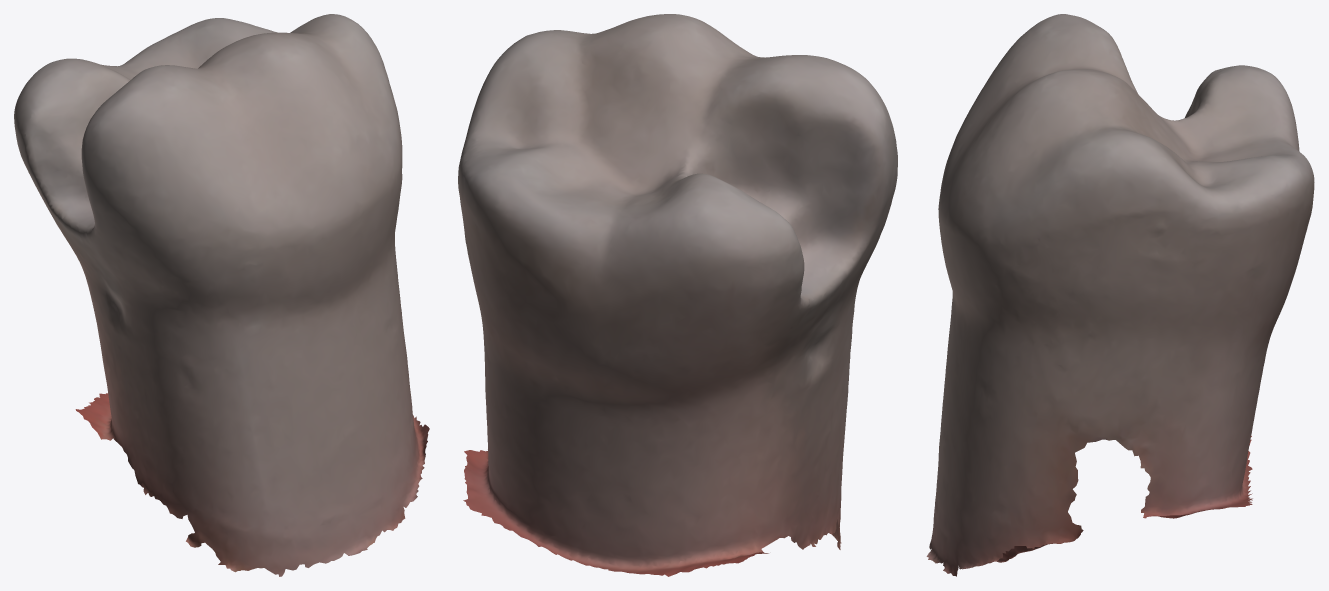
File: ModeloAPP.fbx
The picture shows the model from 3 angles, left to right: view 1: azimuth 30°, elevation 25°; view 2: azimuth 150°, elevation 25°; view 3: azimuth 270°, elevation 25°; orthographic projection. The views are drawn at different scales.
Visible parts, largest first — view 1: PIEZA 36 SOLA; view 2: PIEZA 36 SOLA; view 3: PIEZA 36 SOLA.
Boxes of the visible parts, x1,y1,x2,y2 form: PIEZA 36 SOLA: (14,14,429,576); PIEZA 36 SOLA: (458,14,897,576); PIEZA 36 SOLA: (926,14,1314,576).
Size of the model in its own units: 1171 by 1661 by 1207.
